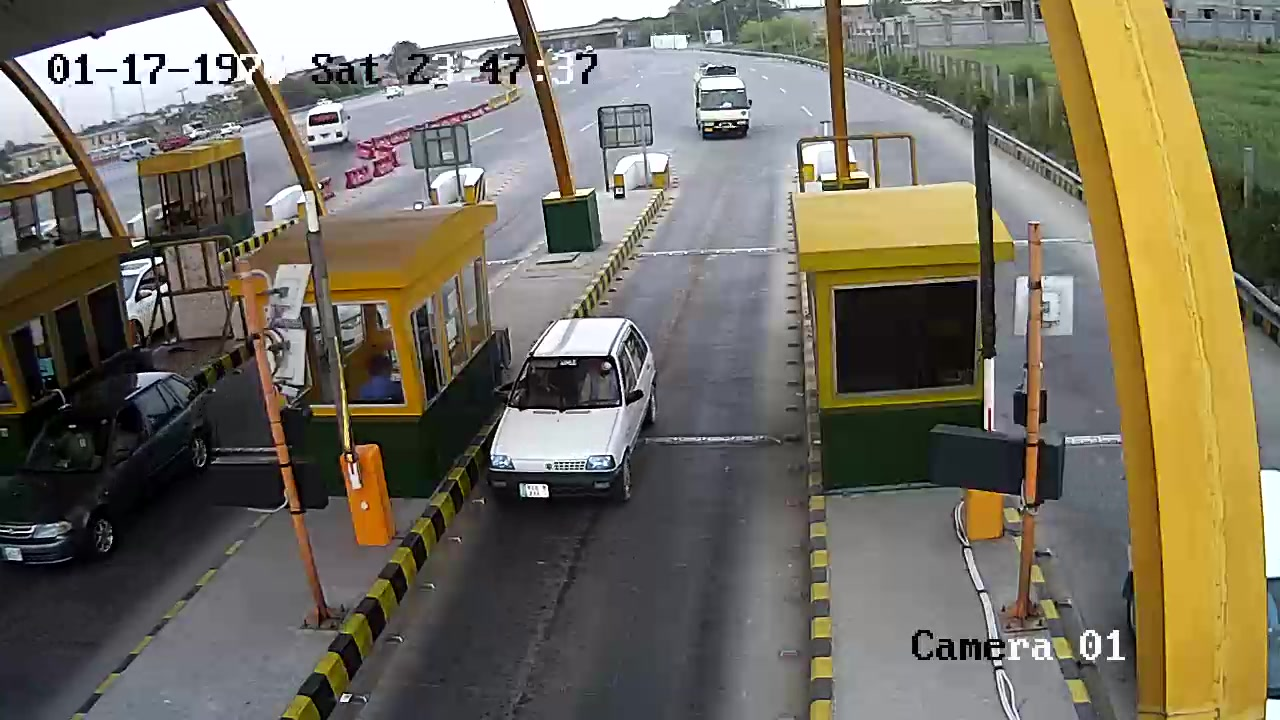F1: (478, 302, 674, 512)
